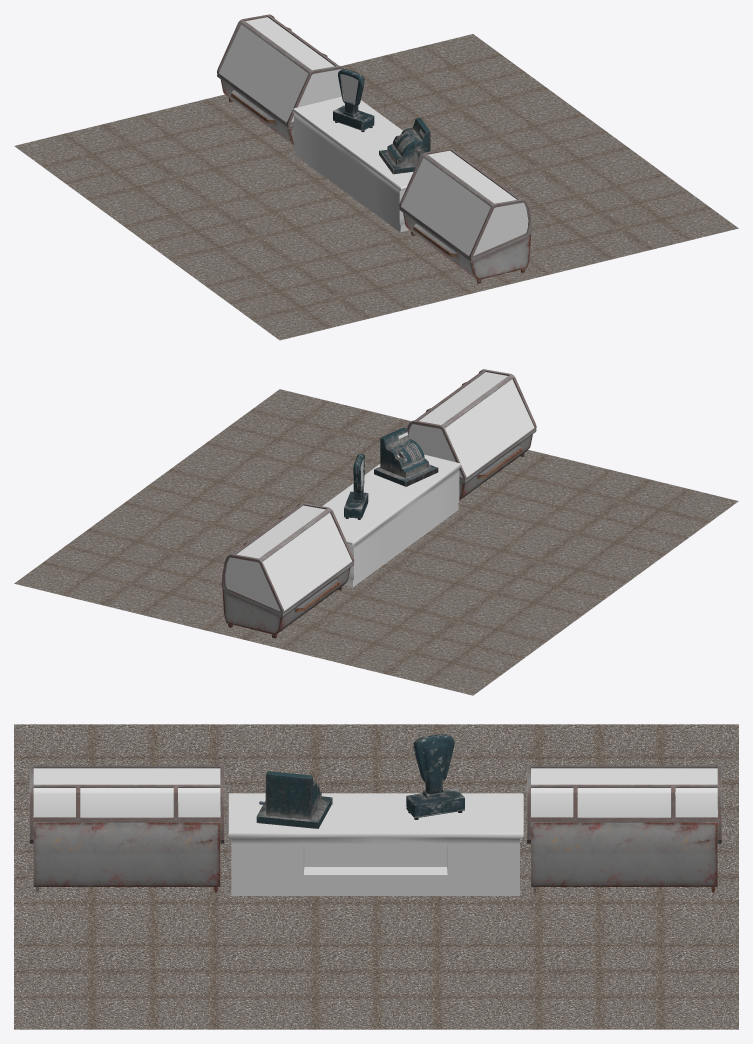
Rendered from Yurko_Shop_Sketchfab.fbx.
The picture shows the model from 3 angles, top to bottom: view 1: azimuth 30°, elevation 25°; view 2: azimuth 150°, elevation 25°; view 3: azimuth 270°, elevation 25°; orthographic projection. The views are drawn at different scales.
Visible parts, largest first — view 1: floor, Fridge.002, Fridge.001, Table, ButtonCashRegister, BarterMachine; view 2: floor, Fridge.001, Fridge.002, Table, ButtonCashRegister, BarterMachine; view 3: floor, Table, Fridge.002, Fridge.001, ButtonCashRegister, BarterMachine.
Boxes of the visible parts, bbox=[...] form: floor: bbox=[14, 34, 738, 340]; Fridge.002: bbox=[399, 148, 531, 283]; Fridge.001: bbox=[217, 14, 344, 145]; Table: bbox=[292, 96, 430, 232]; ButtonCashRegister: bbox=[379, 118, 430, 174]; BarterMachine: bbox=[333, 69, 374, 131]; floor: bbox=[14, 389, 738, 695]; Fridge.001: bbox=[221, 502, 354, 638]; Fridge.002: bbox=[407, 369, 536, 504]; Table: bbox=[322, 454, 460, 586]; ButtonCashRegister: bbox=[374, 427, 438, 486]; BarterMachine: bbox=[344, 454, 368, 519]; floor: bbox=[14, 724, 738, 1029]; Table: bbox=[227, 793, 523, 895]; Fridge.002: bbox=[29, 765, 224, 892]; Fridge.001: bbox=[527, 765, 721, 892]; ButtonCashRegister: bbox=[256, 771, 332, 828]; BarterMachine: bbox=[406, 734, 464, 819].
Size of the model in its own units: 1348 by 283 by 1351.
